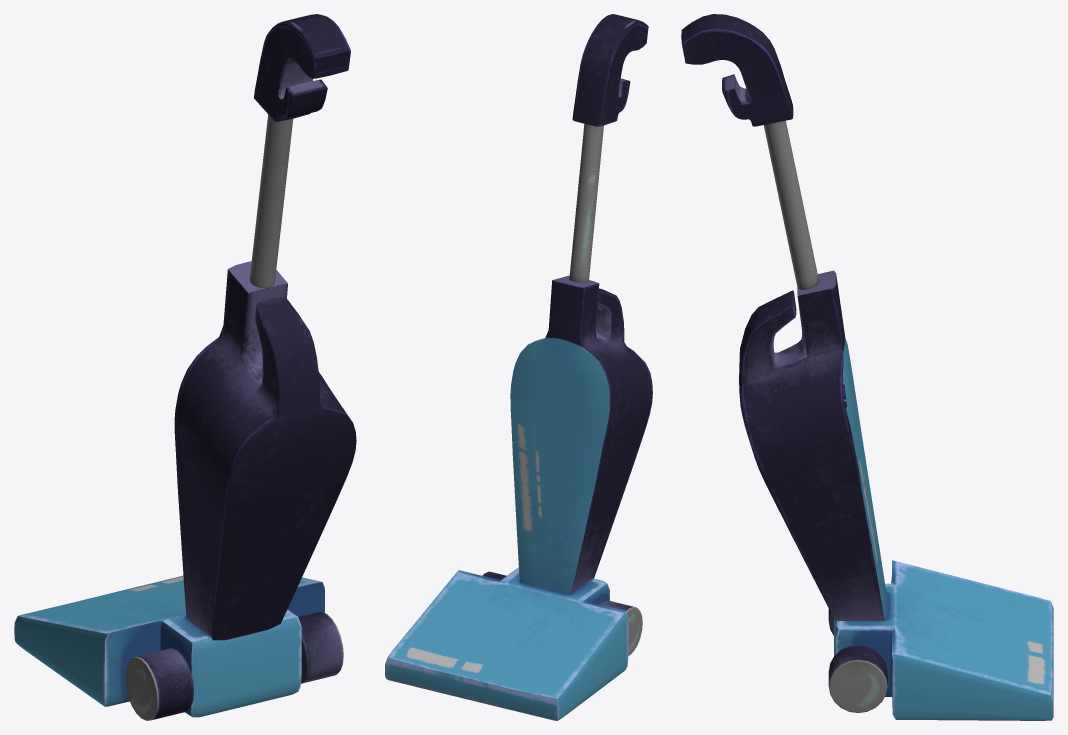
The model's file is VacuumCleaner_Textured 1.fbx.
The picture shows the model from 3 angles, left to right: view 1: azimuth 30°, elevation 25°; view 2: azimuth 150°, elevation 25°; view 3: azimuth 270°, elevation 25°; orthographic projection. The views are drawn at different scales.
Visible parts, largest first — view 1: Vacuum1; view 2: Vacuum1; view 3: Vacuum1.
Part boxes in pixels (x1,y1,x2,y2): Vacuum1: (14, 14, 356, 720); Vacuum1: (385, 14, 652, 720); Vacuum1: (681, 14, 1053, 720).
Bounding box in the file's own units: 84.97 × 270 × 139.
1 material, 1 textured.
